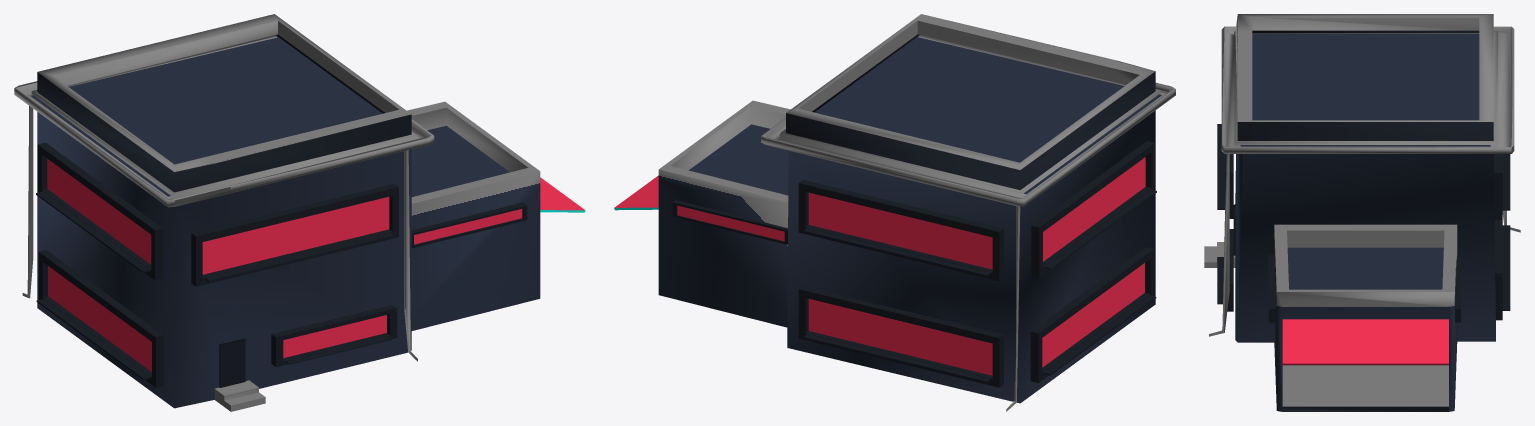
The model's file is building 3_LOD_3.fbx.
The picture shows the model from 3 angles, left to right: view 1: azimuth 30°, elevation 25°; view 2: azimuth 150°, elevation 25°; view 3: azimuth 270°, elevation 25°; orthographic projection. The views are drawn at different scales.
Parts seen in each view (by area): view 1: FLAT ROOF; view 2: FLAT ROOF; view 3: FLAT ROOF.
Part boxes in pixels (x1,y1,x2,y2): FLAT ROOF: (14,14,585,411); FLAT ROOF: (614,14,1175,411); FLAT ROOF: (1204,14,1520,411).
Size of the model in its own units: 44.64 by 22.3 by 28.96.
